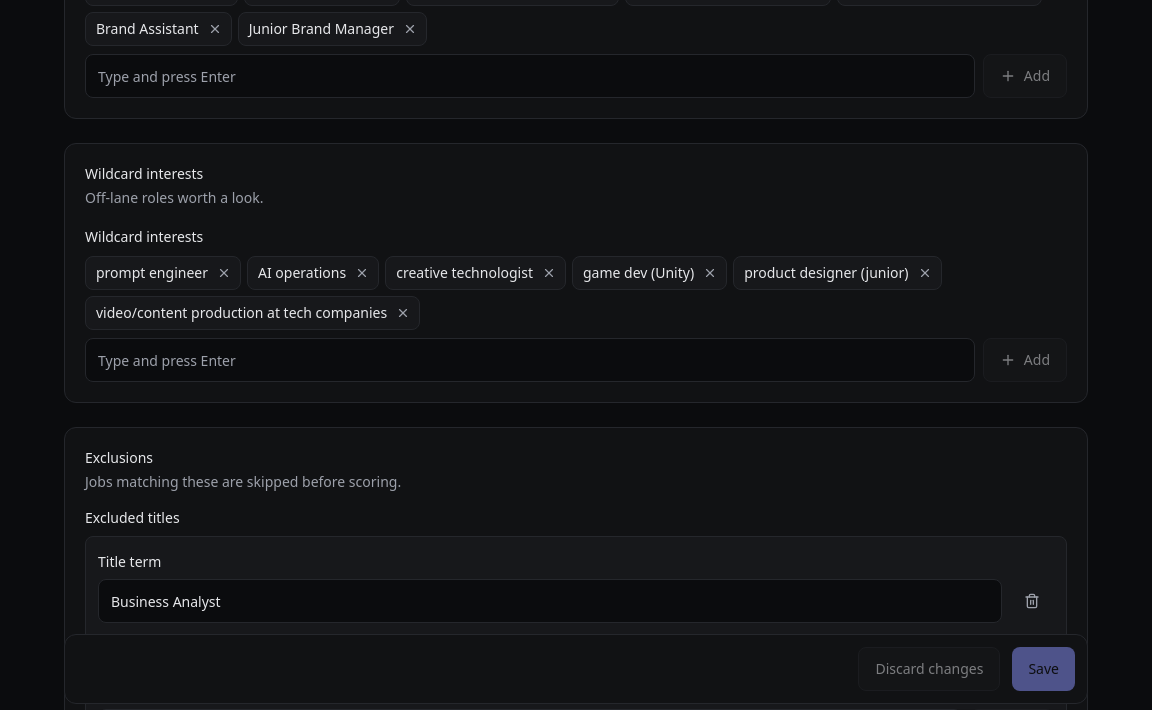
it: Criteria form › shows the conflict message when the criteria changed elsewhere
This screenshot has width=1152, height=710.
(page scrolled)
In the field labelled "Wildcard interests": (530, 360) 85,338 -> 975,382, type "sales engineer"
Then press Enter
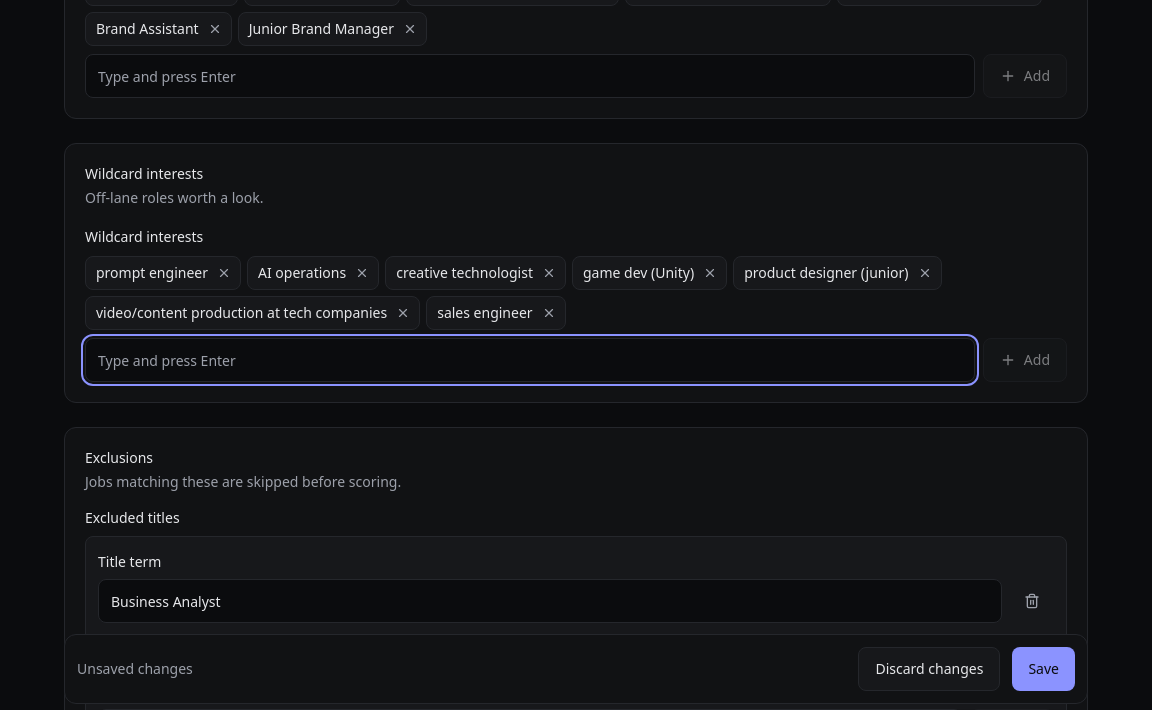
Click the button "Save": (1044, 669) 1012,647 -> 1075,691
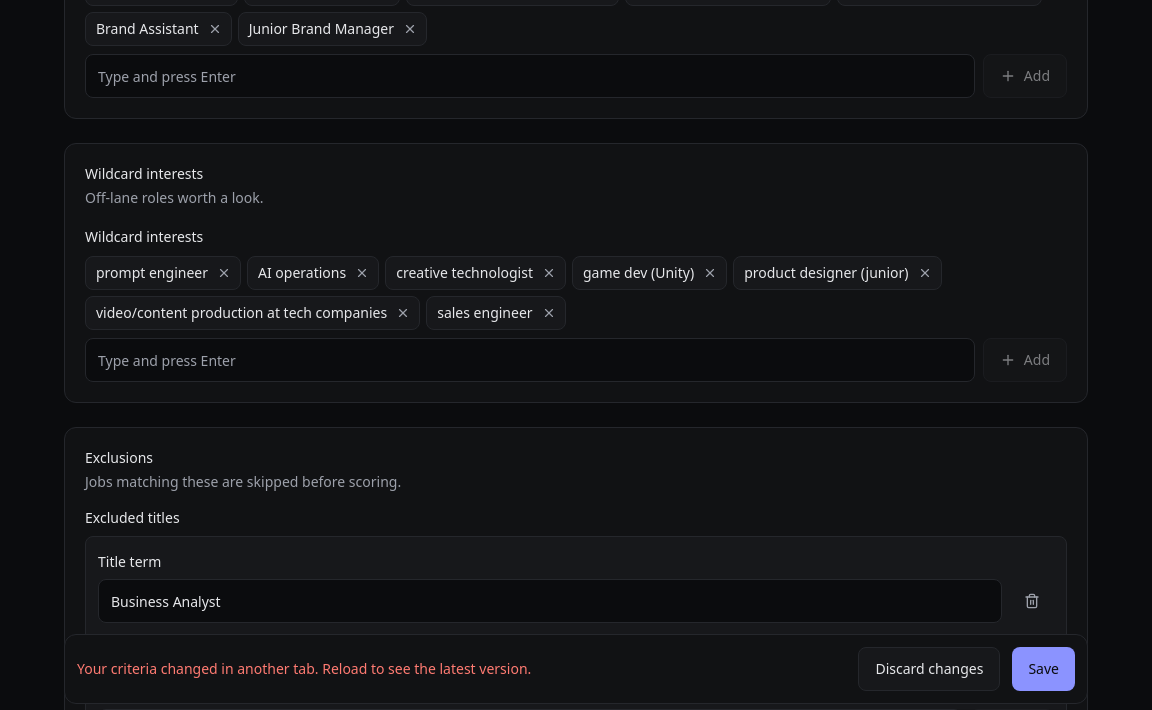
Result: the text "changed in another tab" is shown at 77,659 -> 531,678
